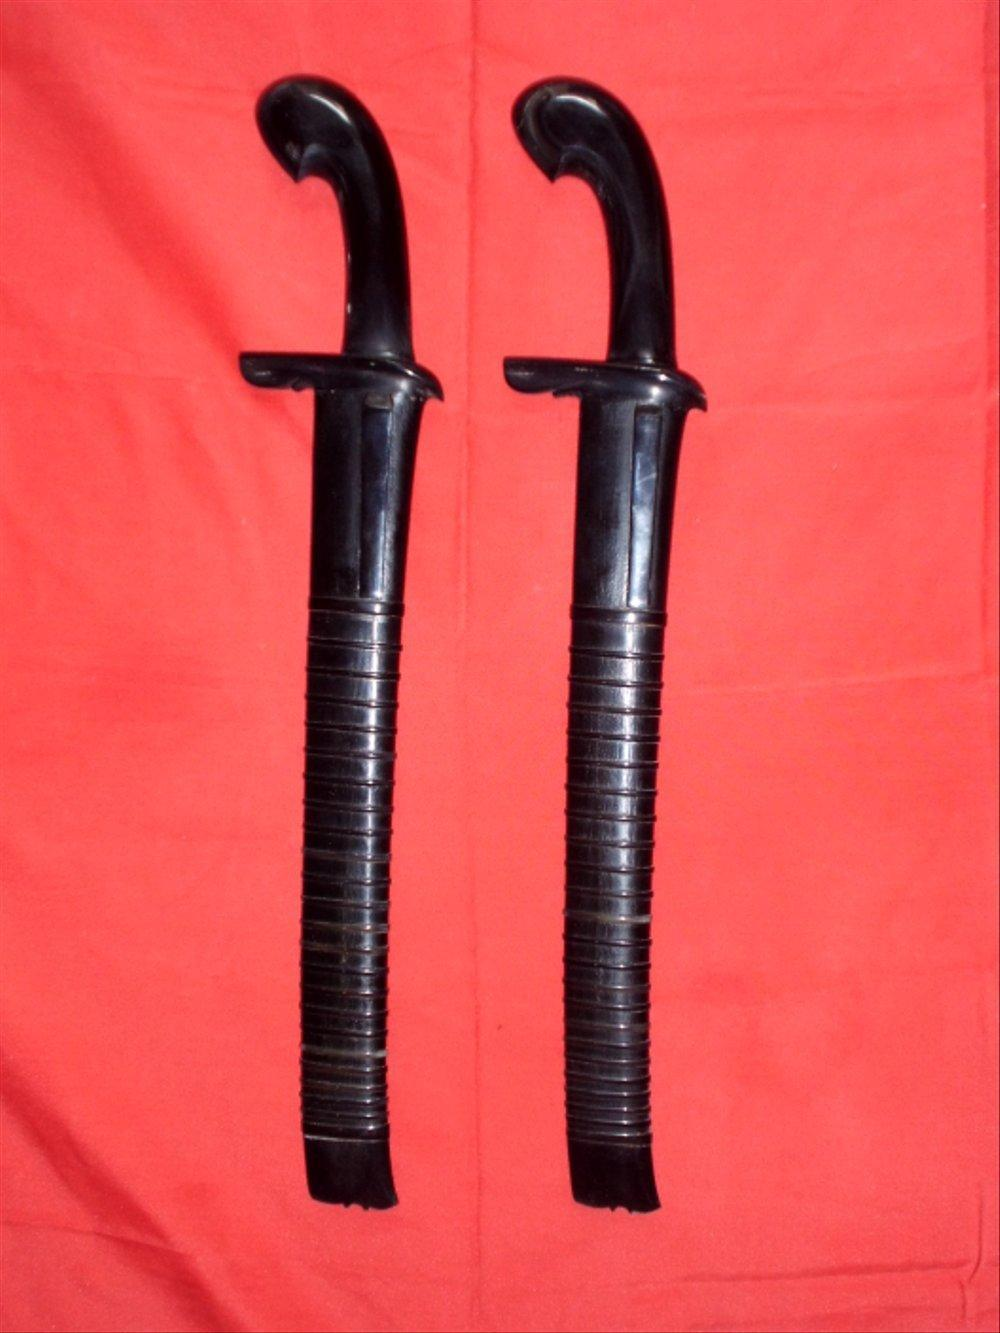espada: (239, 79, 442, 1208), (504, 80, 704, 1210)
